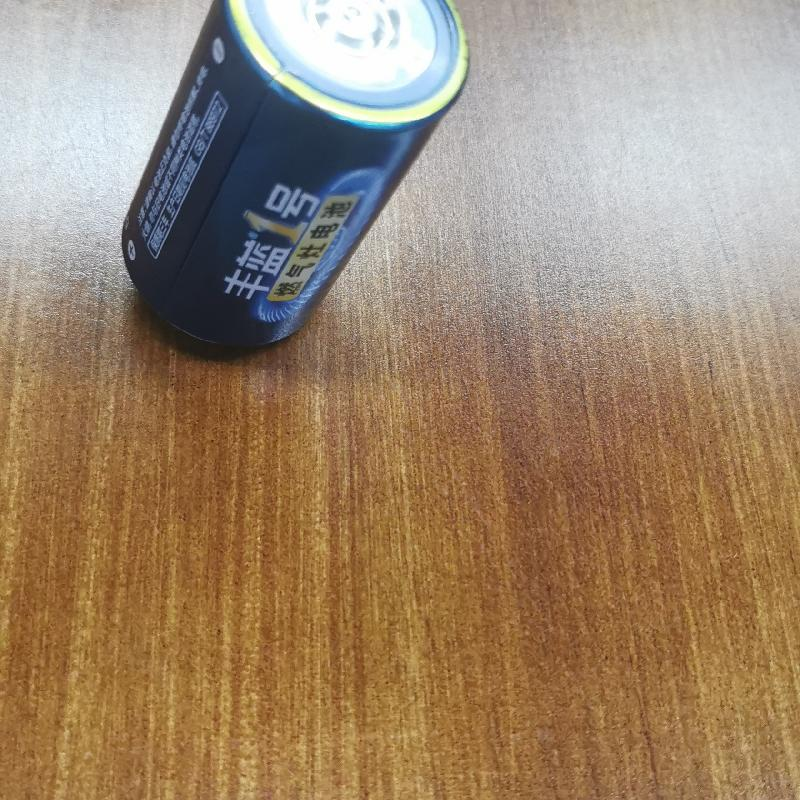battery: (95, 0, 469, 354)
